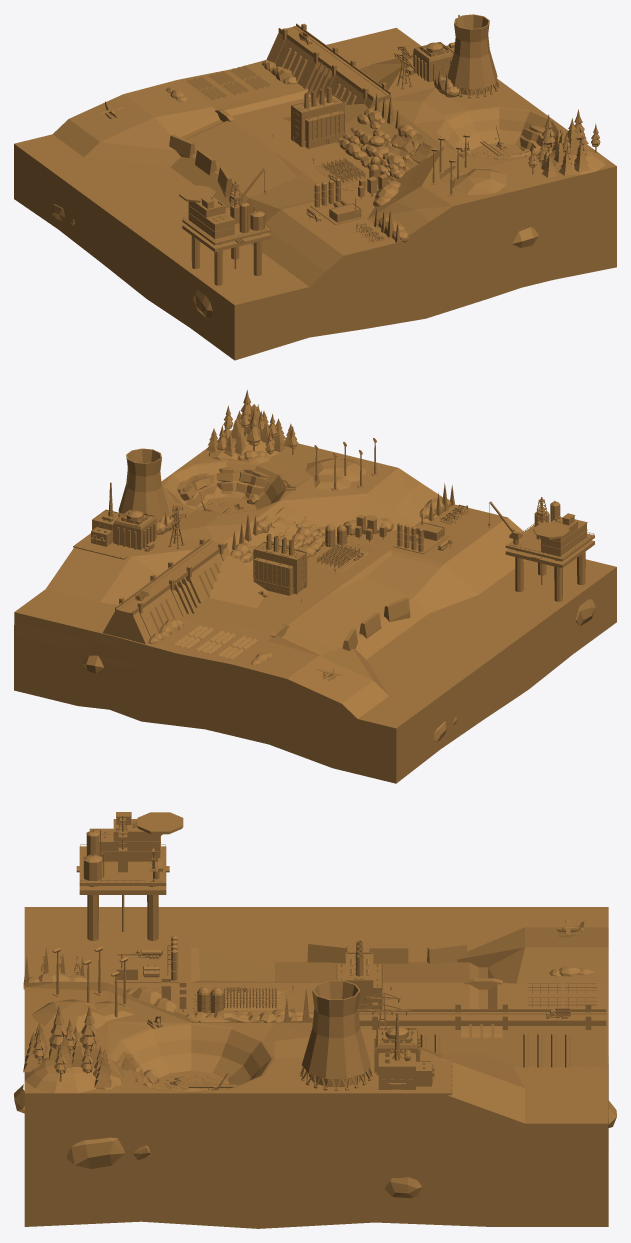
Rendered from polyperfect-energy-base.fbx.
3 views of the same model, one above another, from view 1: azimuth 30°, elevation 25°; view 2: azimuth 150°, elevation 25°; view 3: azimuth 270°, elevation 25° (orthographic). The views are drawn at different scales.
Visible parts, largest first — view 1: polyperfect-energy-base; view 2: polyperfect-energy-base; view 3: polyperfect-energy-base.
Part boxes in pixels (box(x1,y1,x2,y2)): polyperfect-energy-base: box(14, 14, 616, 360); polyperfect-energy-base: box(14, 390, 616, 783); polyperfect-energy-base: box(14, 812, 616, 1228).
Size of the model in its own units: 21.53 by 8.98 by 21.76.
